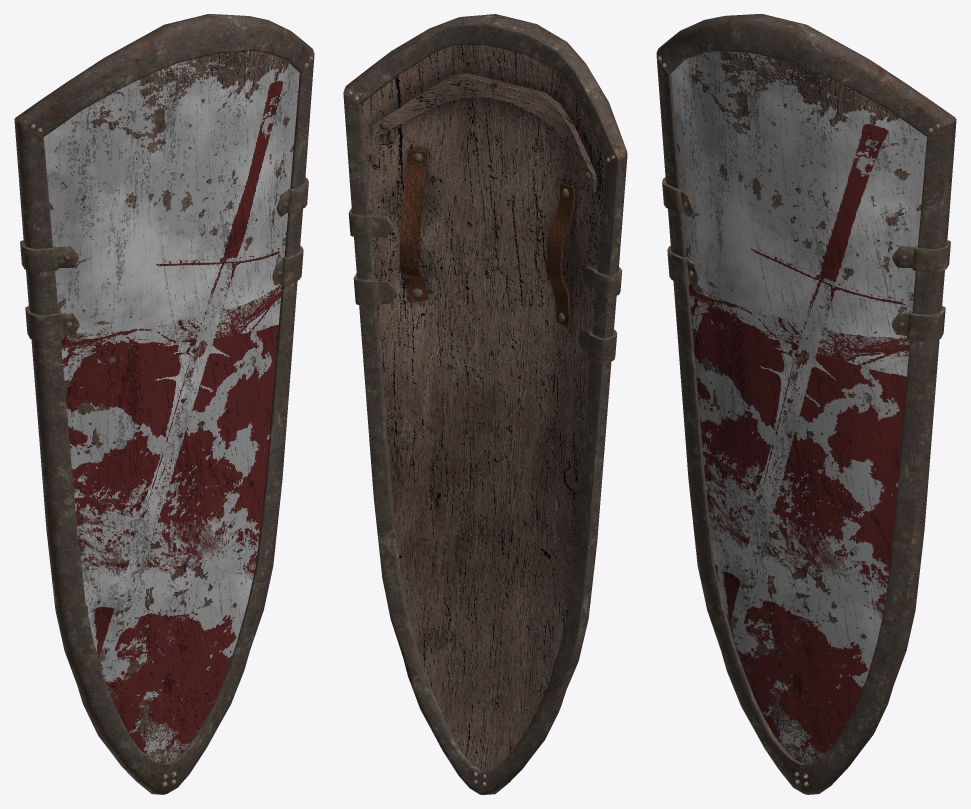
The model's file is natural-shield-source.glb.
3 renders of one model, left to right at view 1: azimuth 30°, elevation 25°; view 2: azimuth 150°, elevation 25°; view 3: azimuth 330°, elevation 25°, orthographic. The views are drawn at different scales.
Parts seen in each view (by area): view 1: natural-shield-source runtime mesh; view 2: natural-shield-source runtime mesh; view 3: natural-shield-source runtime mesh.
Boxes of the visible parts, x1=… form: natural-shield-source runtime mesh: x1=14, y1=14, x2=314, y2=794; natural-shield-source runtime mesh: x1=343, y1=14, x2=627, y2=794; natural-shield-source runtime mesh: x1=656, y1=14, x2=956, y2=794.
Bounding box in the file's own units: 0.3273 × 0.84 × 0.0812.
Materials: 2 (2 with a texture image).
